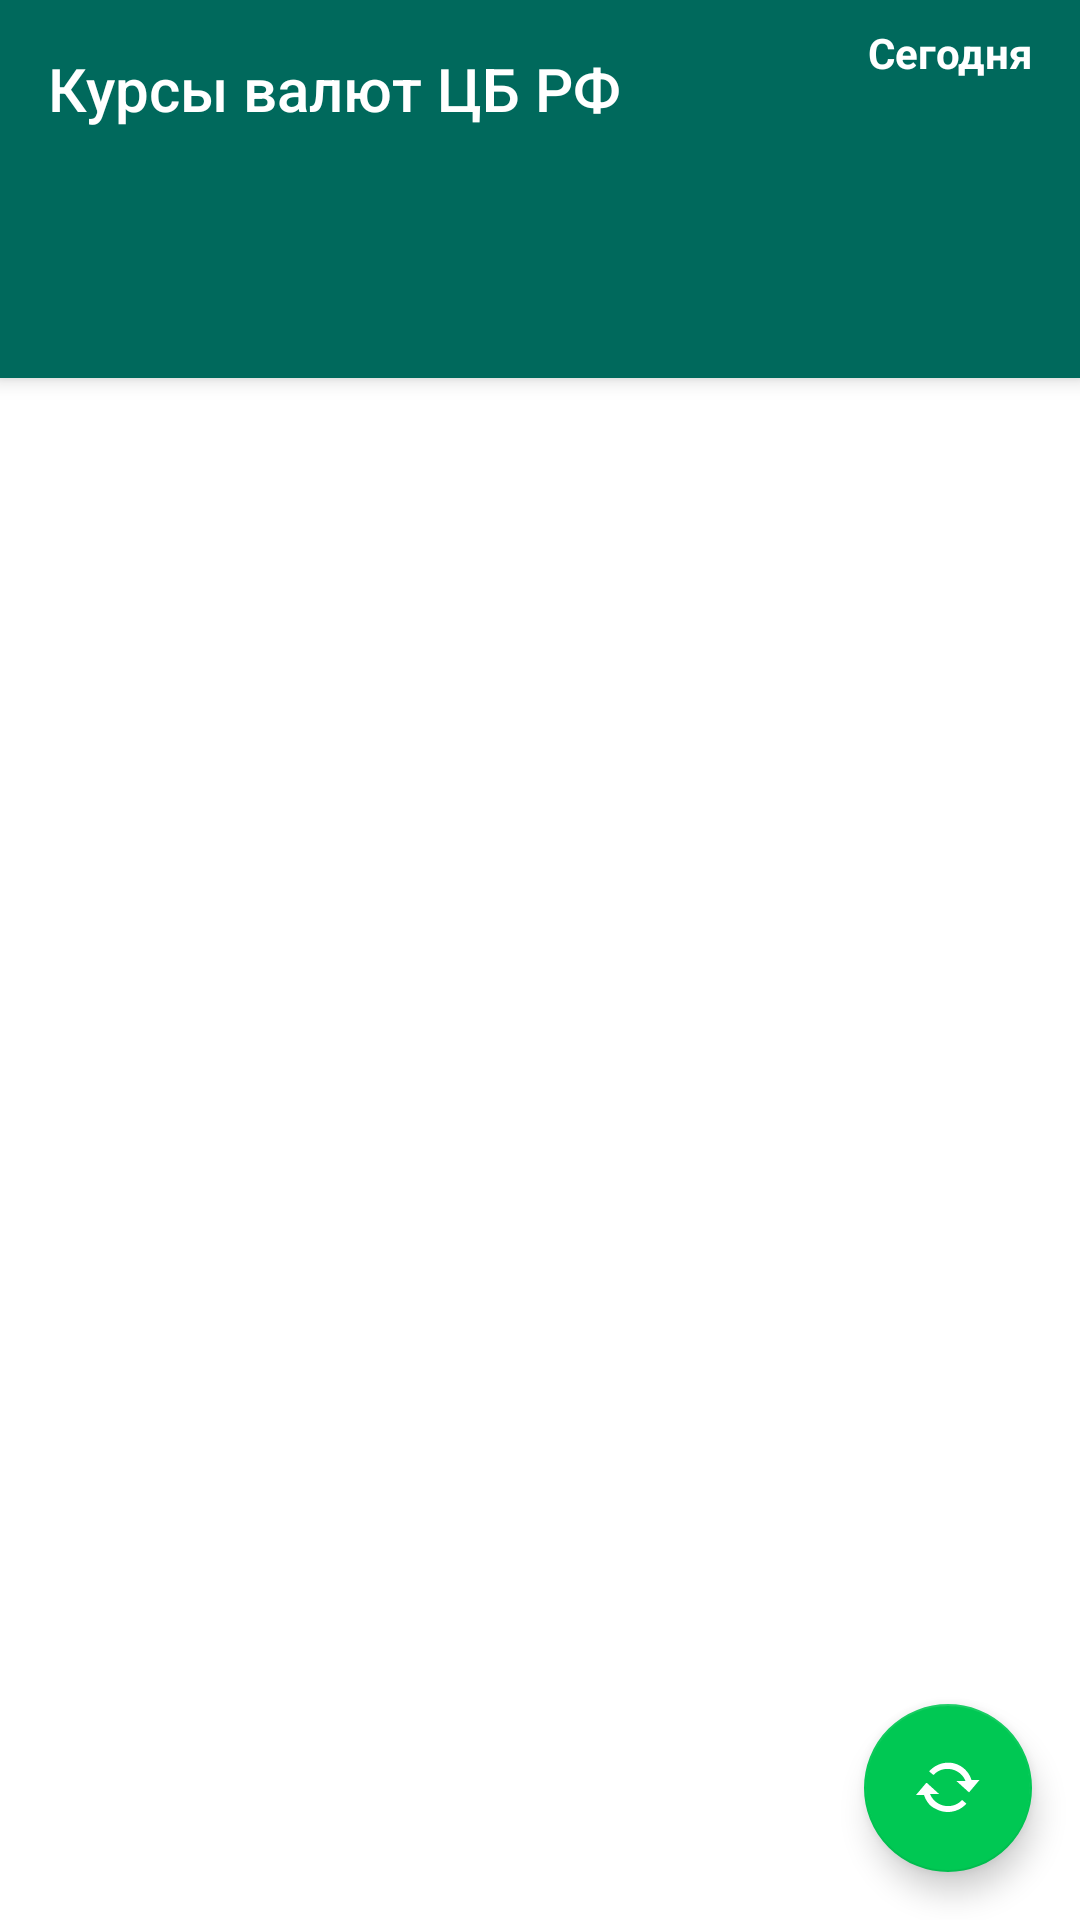

Icon click points for this 1080×1920 phone screenshot, format point (x, y):
sync: point (948, 1788)
